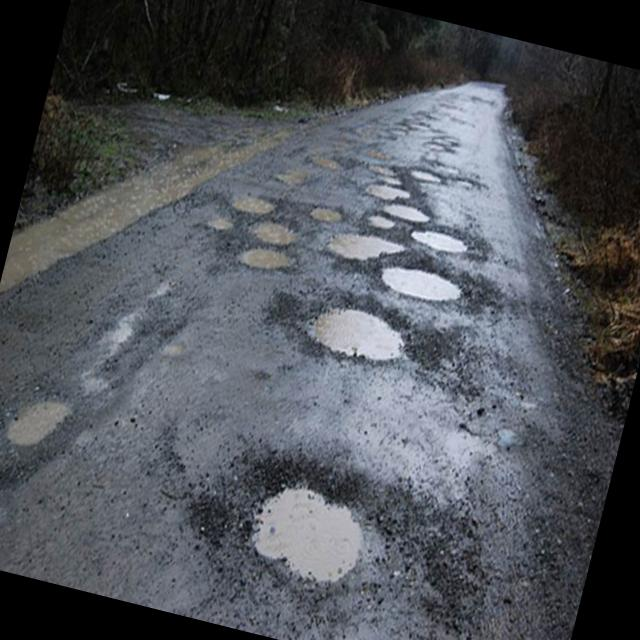Potholes: (162, 419, 456, 640), (0, 321, 108, 582), (282, 276, 431, 386), (361, 256, 481, 324), (319, 217, 416, 283), (224, 178, 287, 238), (232, 244, 304, 294), (361, 158, 418, 218), (406, 220, 479, 264), (246, 210, 308, 253), (302, 187, 358, 234), (372, 192, 436, 232), (359, 207, 401, 244), (406, 164, 446, 191)
